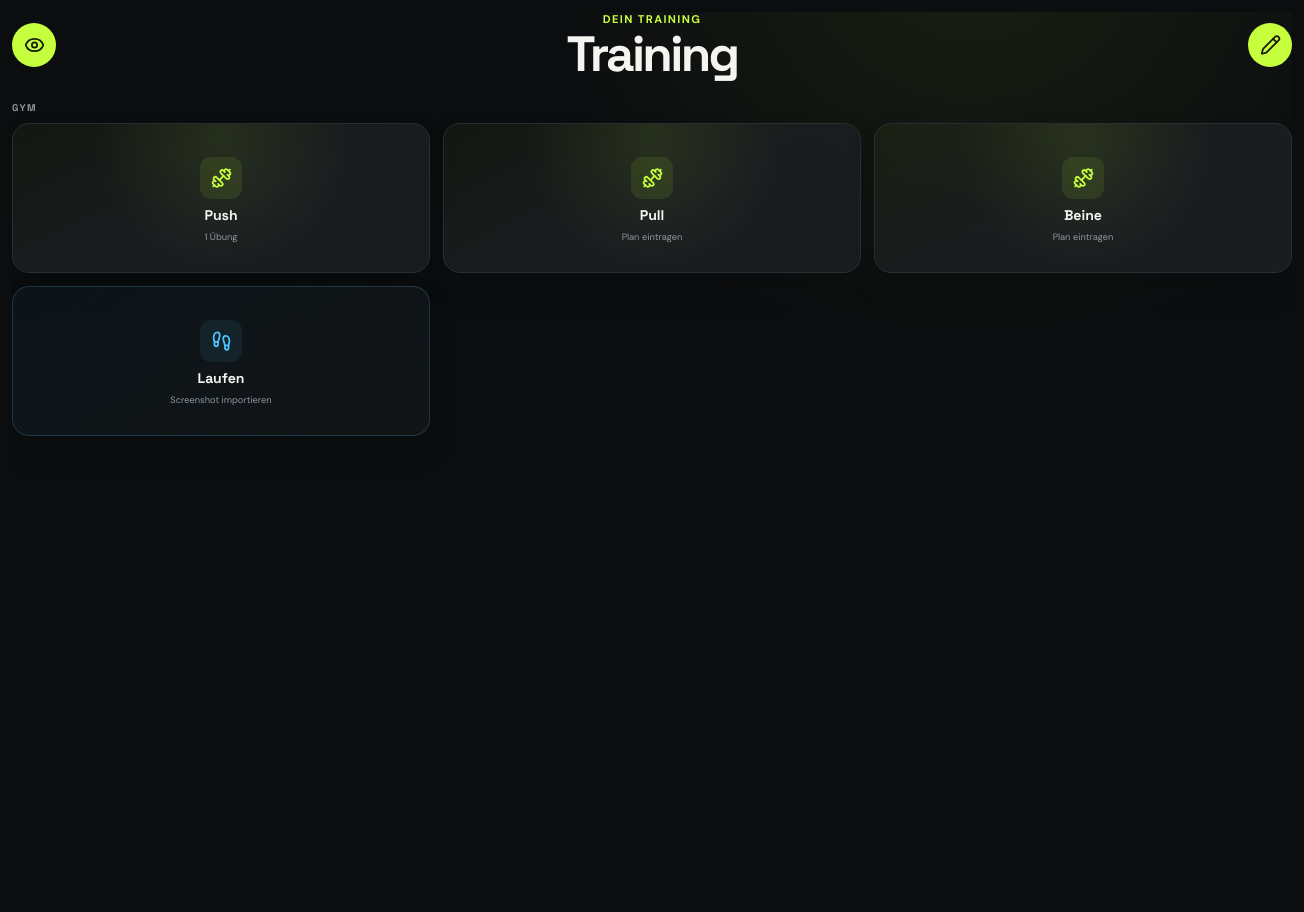
it: GYM-Workflow › gliedert den Verlauf absteigend nach Kalenderjahr, Monat und ISO-Kalenderwoche
This screenshot has width=1304, height=912.
Click the button named "Trainingsverlauf öffnen". click: x=34, y=45
box: [12,23,56,67]
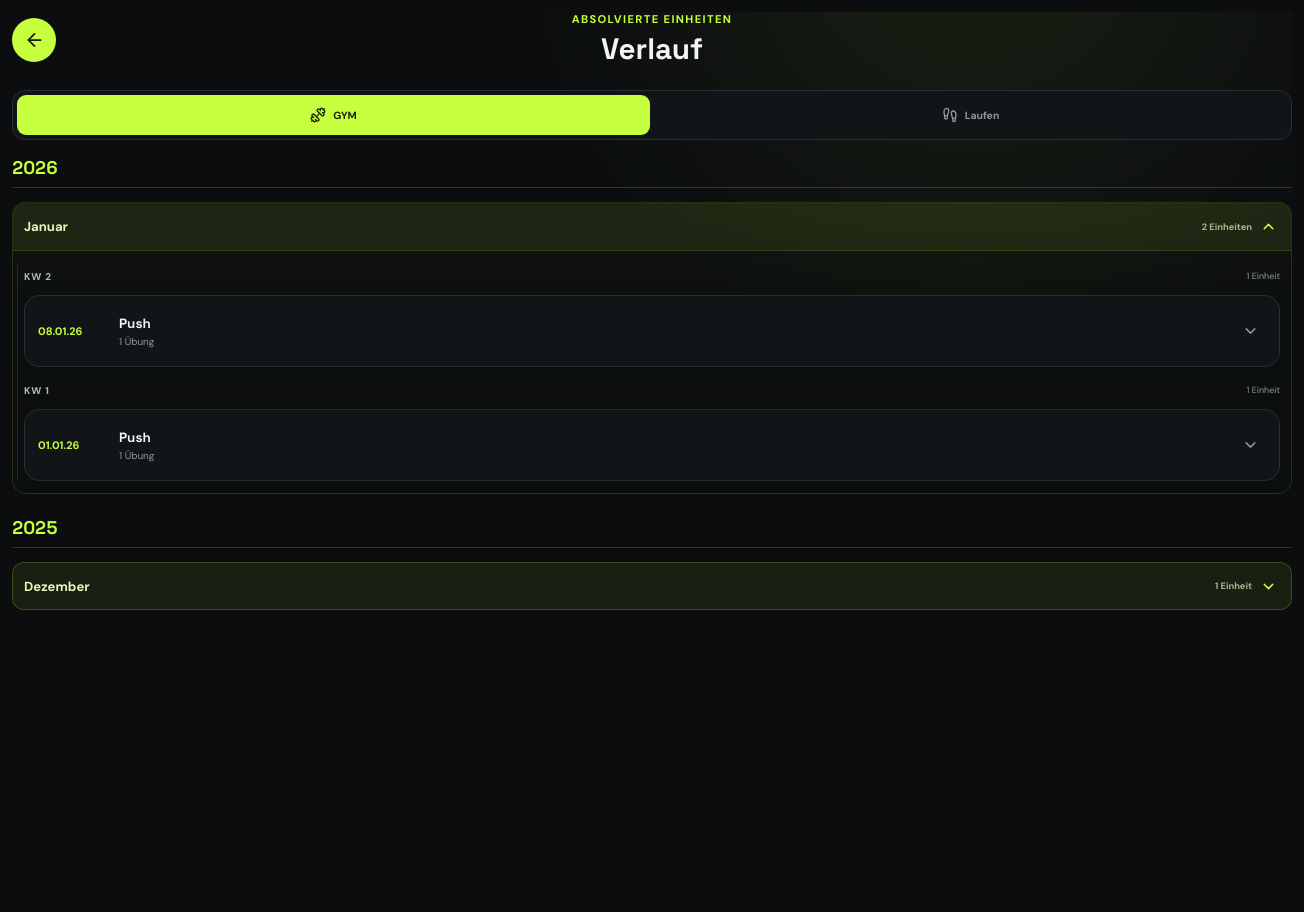
Result: the headings read "2026", "2025", in this order at [12,156,1292,188]; [12,516,1292,548]
Result: the number of headings "Januar 2 Einheiten" is 1 at [13,203,1291,251]
Result: the heading "Dezember 1 Einheit" is shown
Click the button "Dezember 1 Einheit". click: x=57, y=586
box: [12,562,1292,610]
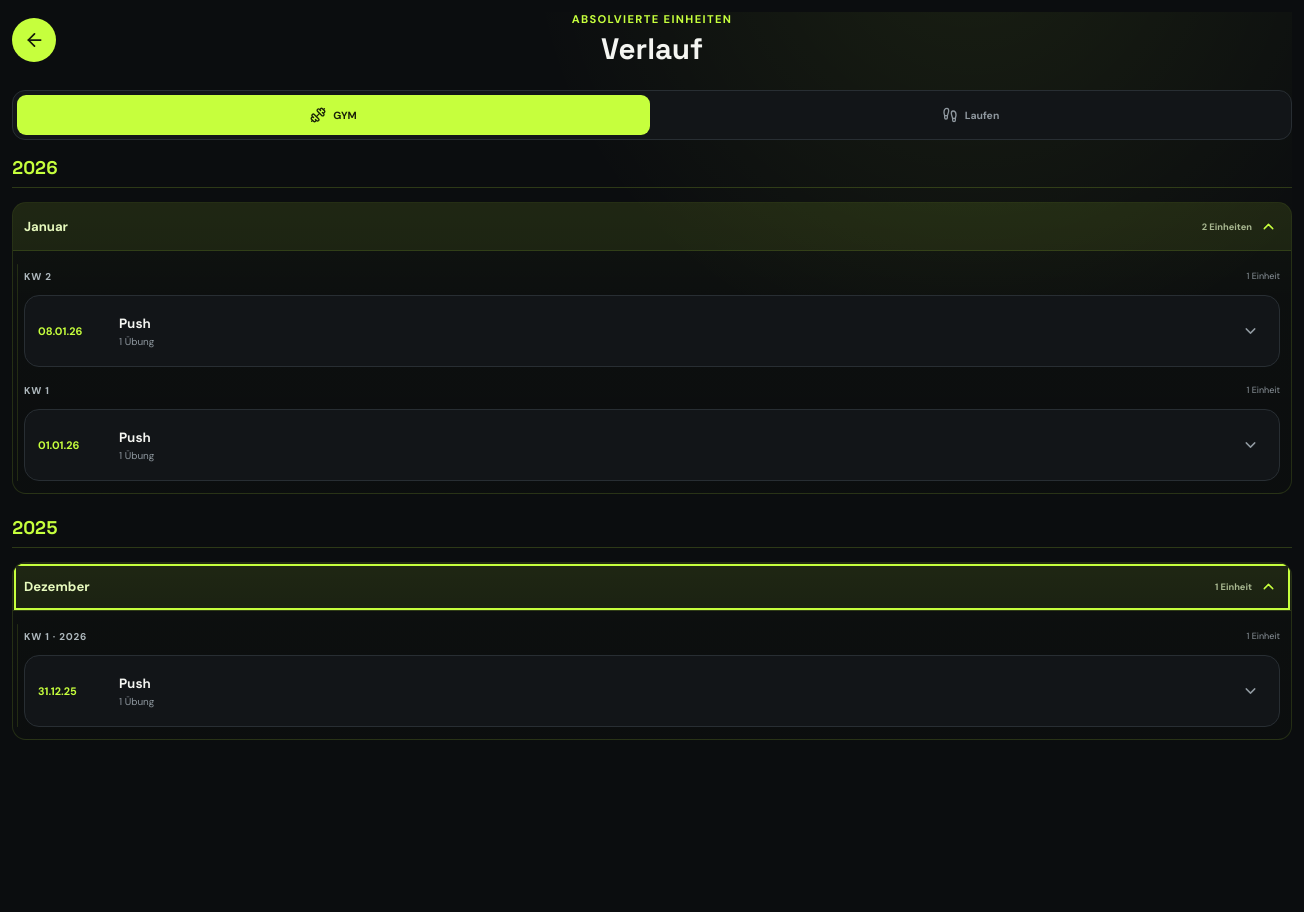
Result: the heading "KW 1 · 2026" is shown at [24,630,87,642]
